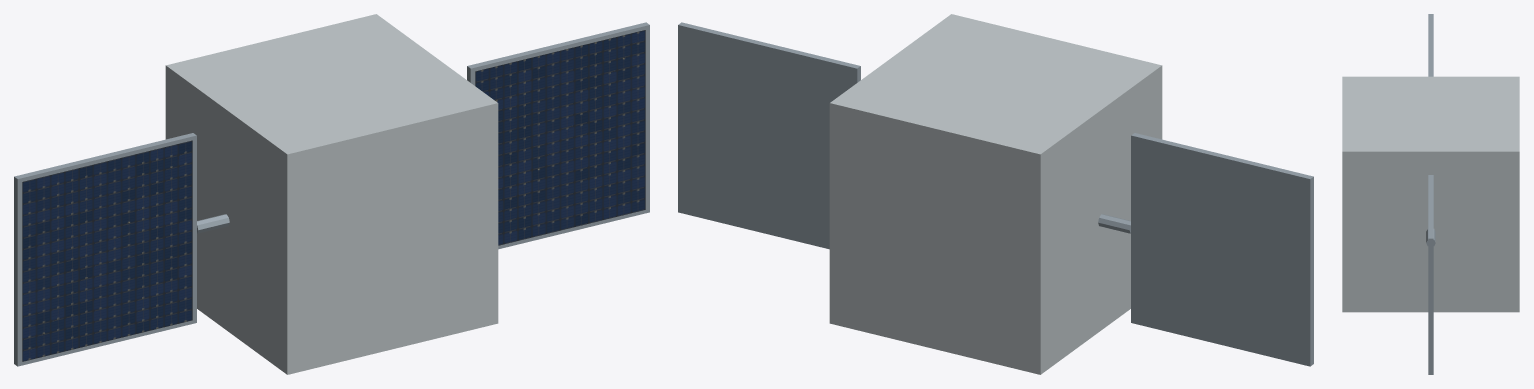
File: ref-nro-unk-small-45723.glb
The picture shows the model from 3 angles, left to right: view 1: azimuth 30°, elevation 25°; view 2: azimuth 150°, elevation 25°; view 3: azimuth 270°, elevation 25°; orthographic projection. The views are drawn at different scales.
Visible parts, largest first — view 1: Spacecraft body, Photovoltaic laminates (×2), Array frame (×2); view 2: Spacecraft body, Array frame (×2); view 3: Spacecraft body, Array frame (×2).
Boxes of the visible parts, x1=… form: Spacecraft body: x1=165, y1=14, x2=498, y2=374; Photovoltaic laminates (×2): x1=22, y1=30, x2=645, y2=361; Array frame (×2): x1=14, y1=22, x2=649, y2=366; Spacecraft body: x1=829, y1=14, x2=1162, y2=374; Array frame (×2): x1=678, y1=22, x2=1313, y2=366; Spacecraft body: x1=1342, y1=76, x2=1519, y2=312; Array frame (×2): x1=1428, y1=14, x2=1433, y2=374.
Bounding box in the file's own units: 3 × 1 × 1.
Materials: 3 (1 with a texture image).
